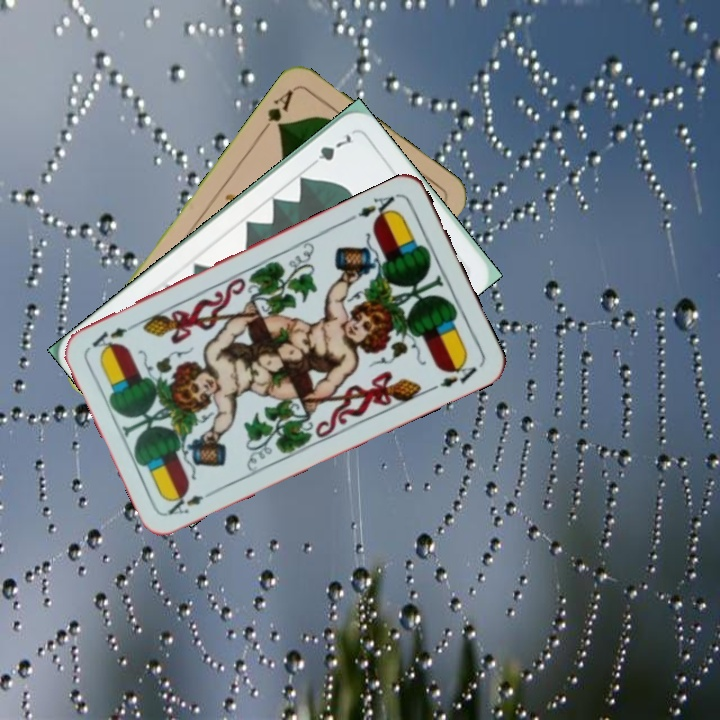EA: (164, 485, 219, 518), (354, 190, 401, 225)
G7: (305, 129, 354, 171)
GA: (256, 85, 296, 137)
